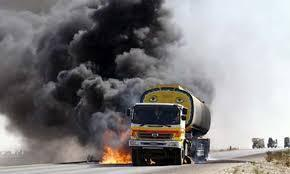fire: (102, 125, 132, 163)
